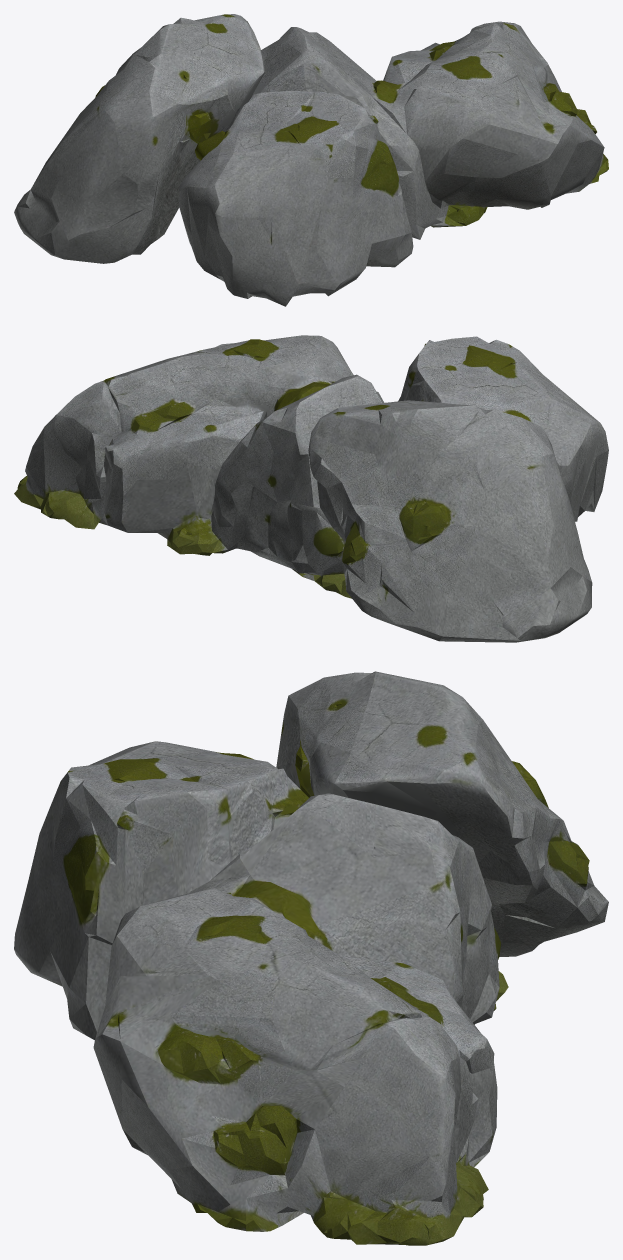
The model's file is boulders_mid.glb.
3 renders of one model, top to bottom at view 1: azimuth 30°, elevation 25°; view 2: azimuth 150°, elevation 25°; view 3: azimuth 270°, elevation 25°, orthographic. The views are drawn at different scales.
Parts seen in each view (by area): view 1: output_unwrapped; view 2: output_unwrapped; view 3: output_unwrapped.
Boxes of the visible parts, x1=… form: output_unwrapped: x1=14, y1=14, x2=608, y2=306; output_unwrapped: x1=14, y1=335, x2=608, y2=642; output_unwrapped: x1=14, y1=671, x2=608, y2=1245.
Size of the model in its own units: 1.86 by 0.6002 by 1.18.
Materials: 1 (1 with a texture image).
